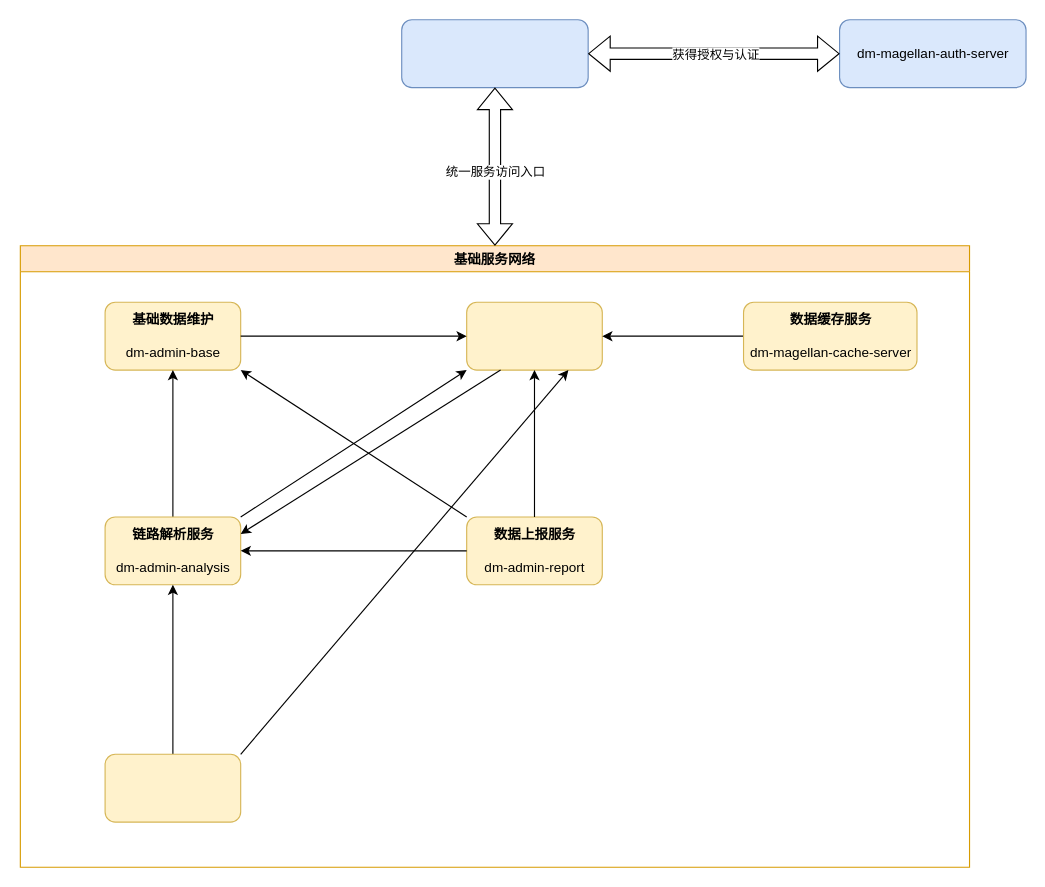
Some shapes in this 1045 by 887 pixel diagram are drawn without their labels. The shapes that lost their labels are listed below. From the top down, each one's centre as x and y in pixels, then its label:
the point at 494,53: dm-magellan-gateway
the point at 534,335: 数据分析服务 dm-integrate-server
the point at 172,787: 分析调度执行器 dm-analysis-actuator
